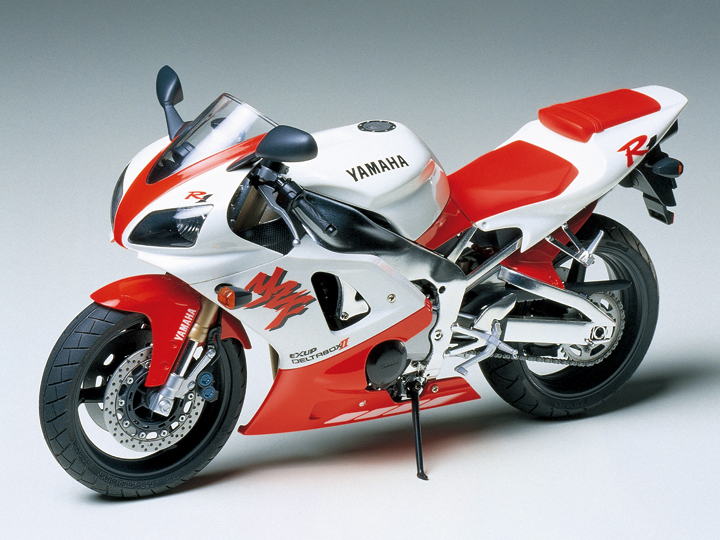motorcycle: (47, 75, 690, 492)
